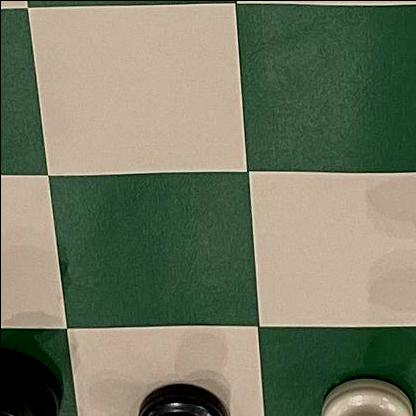black-pawn: (125, 379, 237, 416)
white-pawn: (314, 371, 416, 416)
